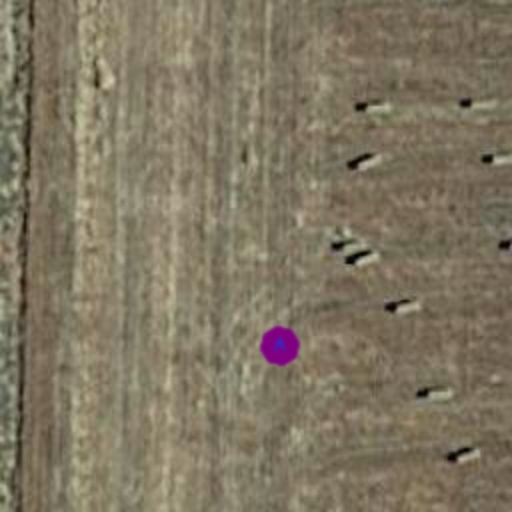octagon: (256, 322, 304, 370)
